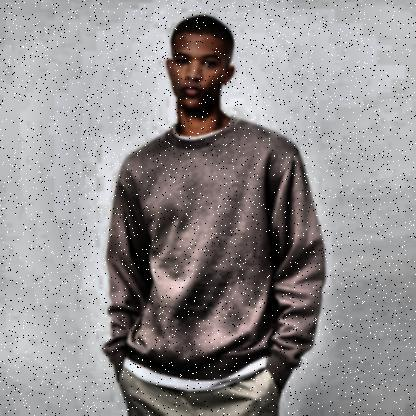short sleeve shirt: (121, 115, 273, 392)
sweater: (101, 116, 329, 388)
trousers: (116, 367, 285, 416)
